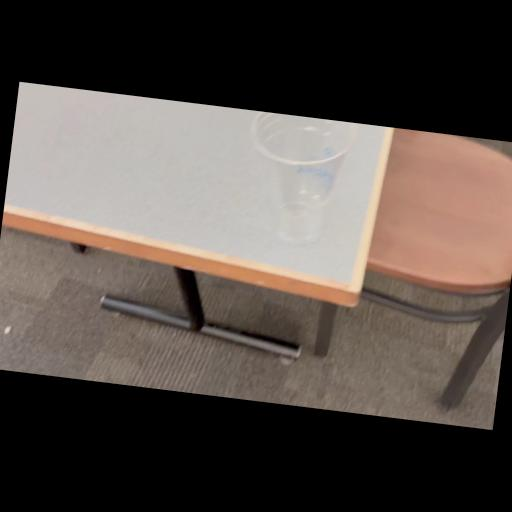lp_plastic_cup: (240, 112, 355, 252)
